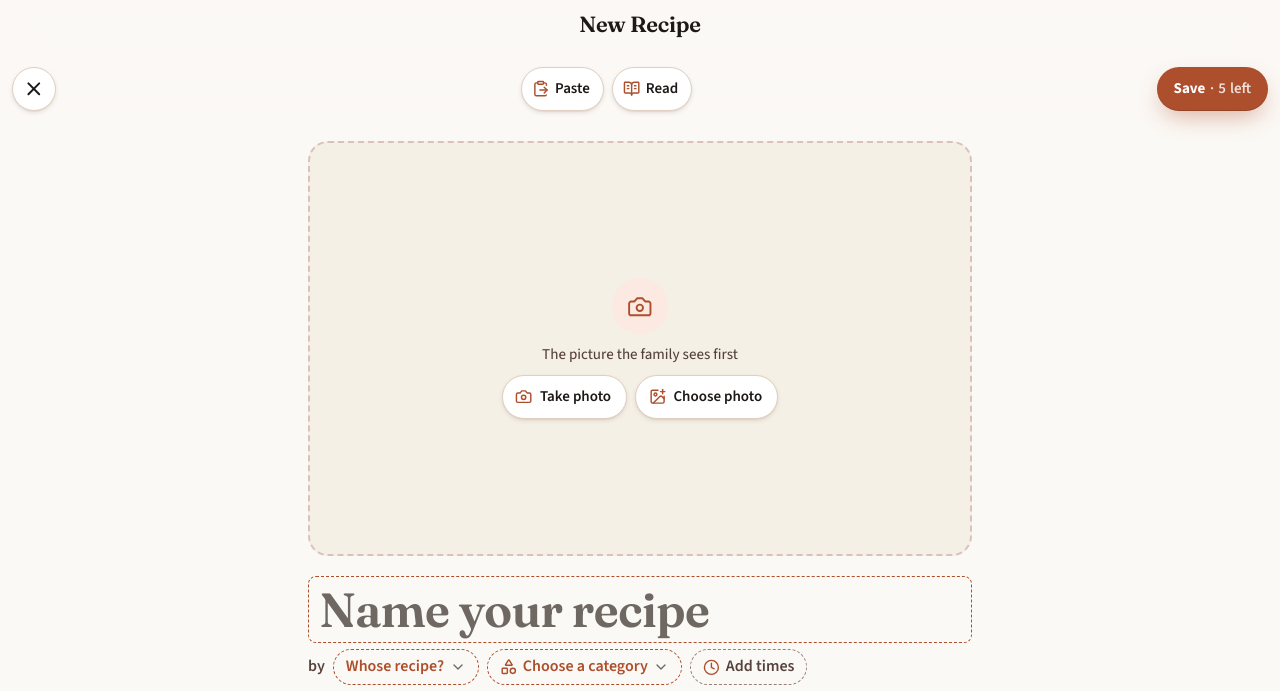
Test: adding a recipe from a website › puts the copied address in the field from the Paste button
Click the button "Paste" at (562, 89), box [521,67,604,111]
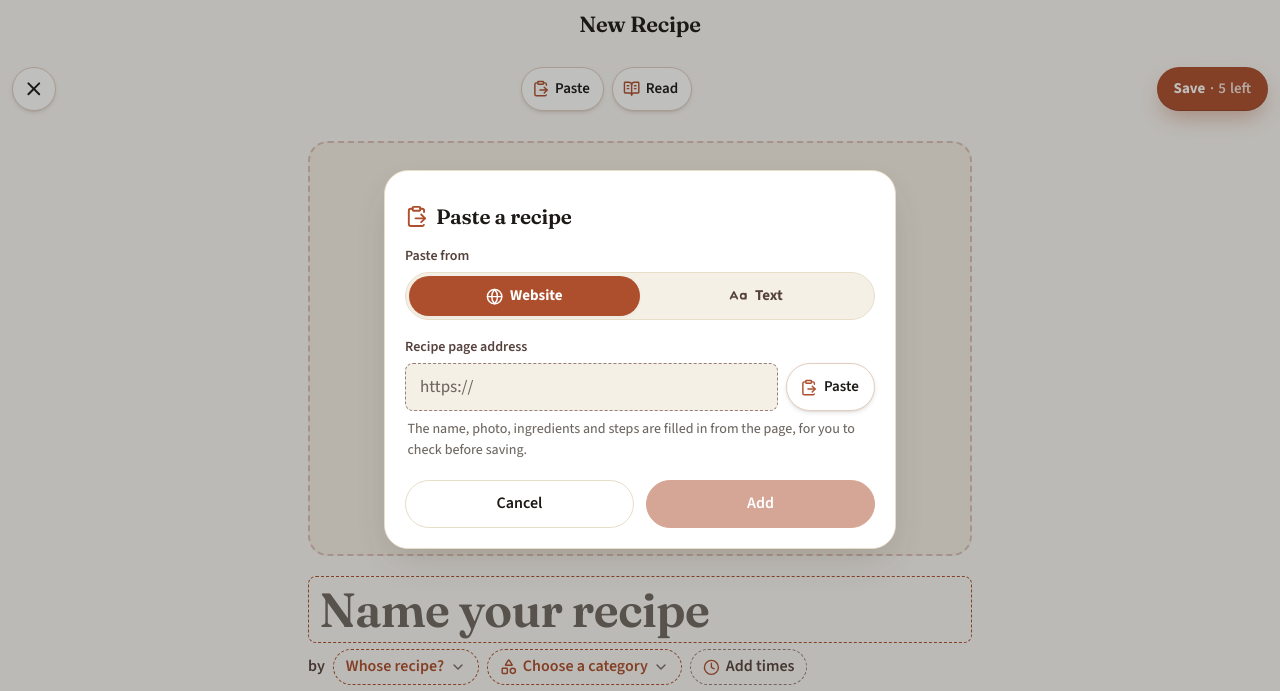
Click the button with aria-label "Paste the address you copied" at (830, 388), box [786,364,875,412]
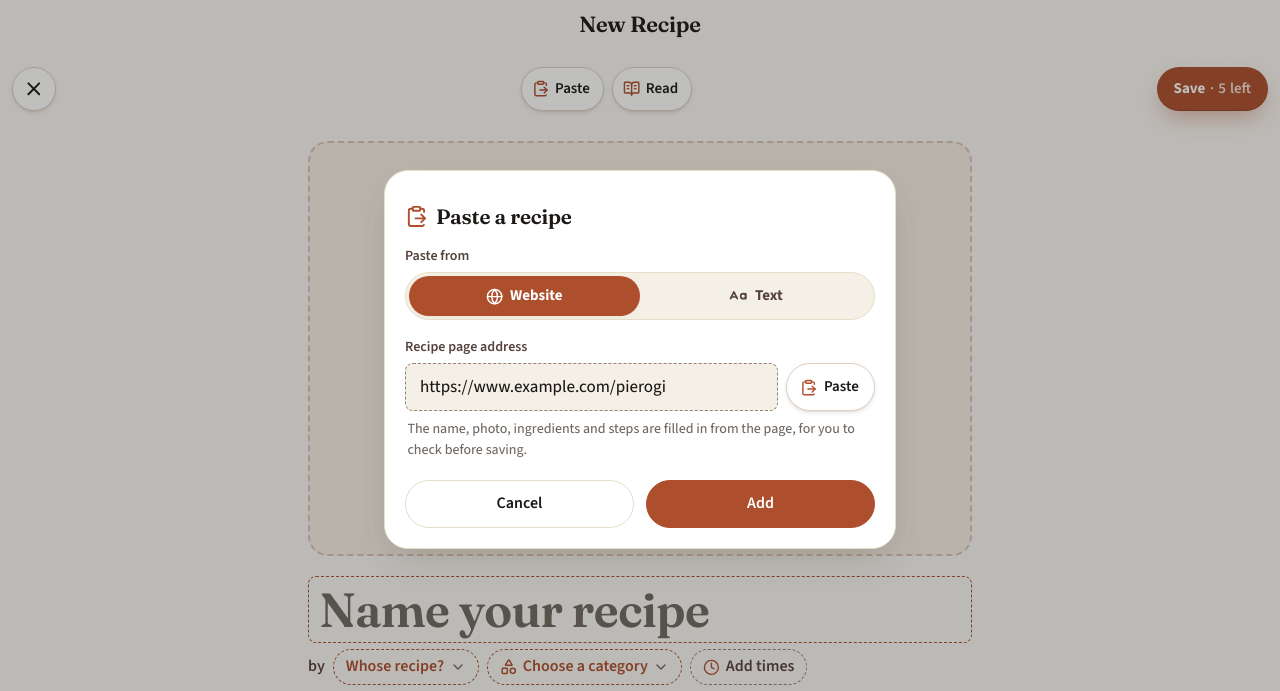
Expected: the field labelled "Recipe page address" holds "https://www.example.com/pierogi", [405,364,778,412]
Click the button with aria-label "Paste the address you copied" at (830, 388), box [786,364,875,412]
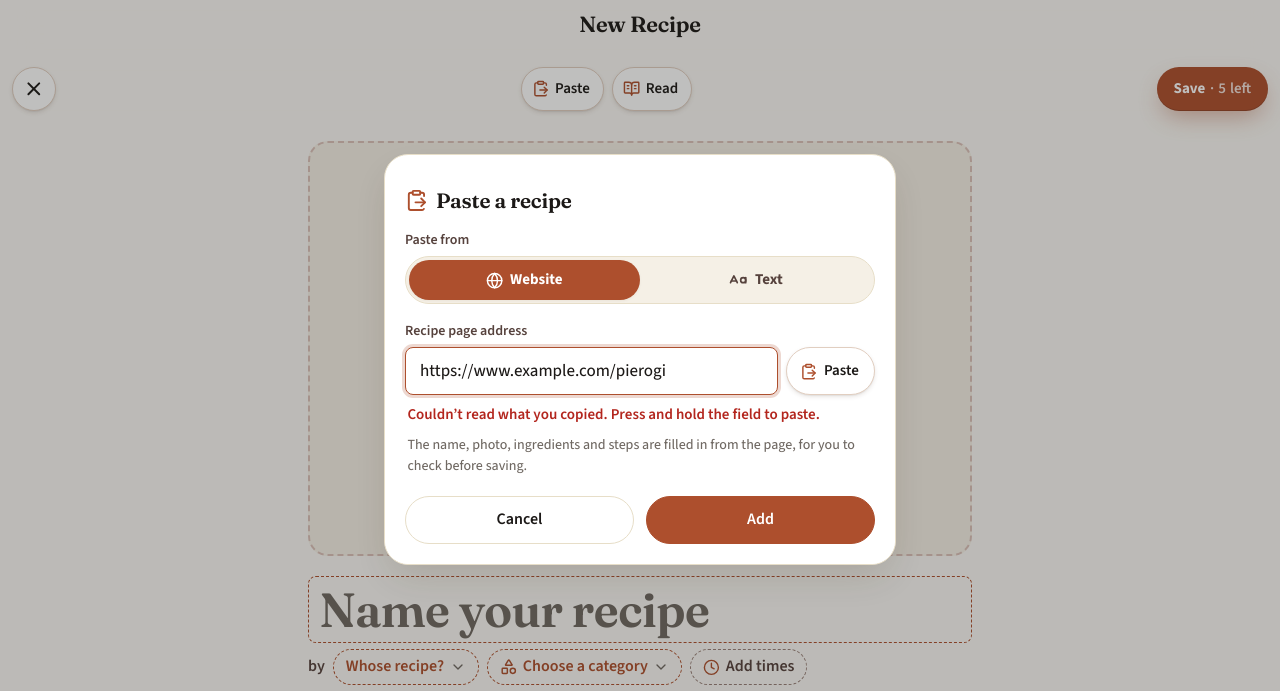
Expected: the message reads "Couldn’t read what you copied. Press and hold the field to paste.", [407,405,820,426]
